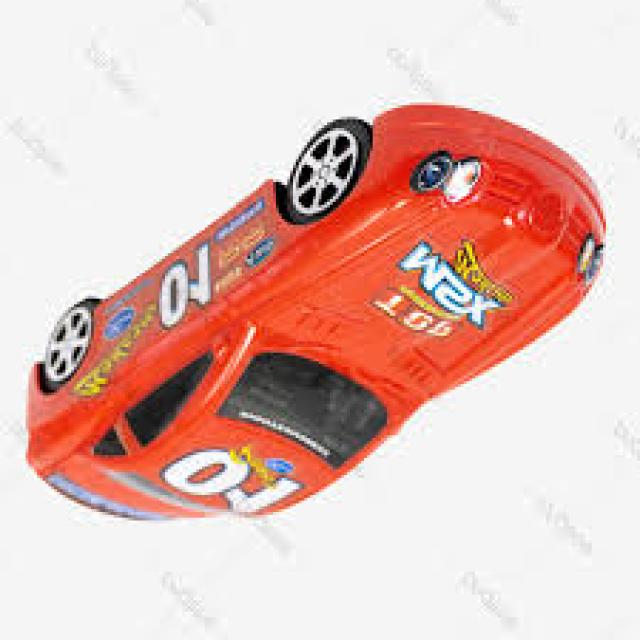Car: (23, 105, 606, 526)
